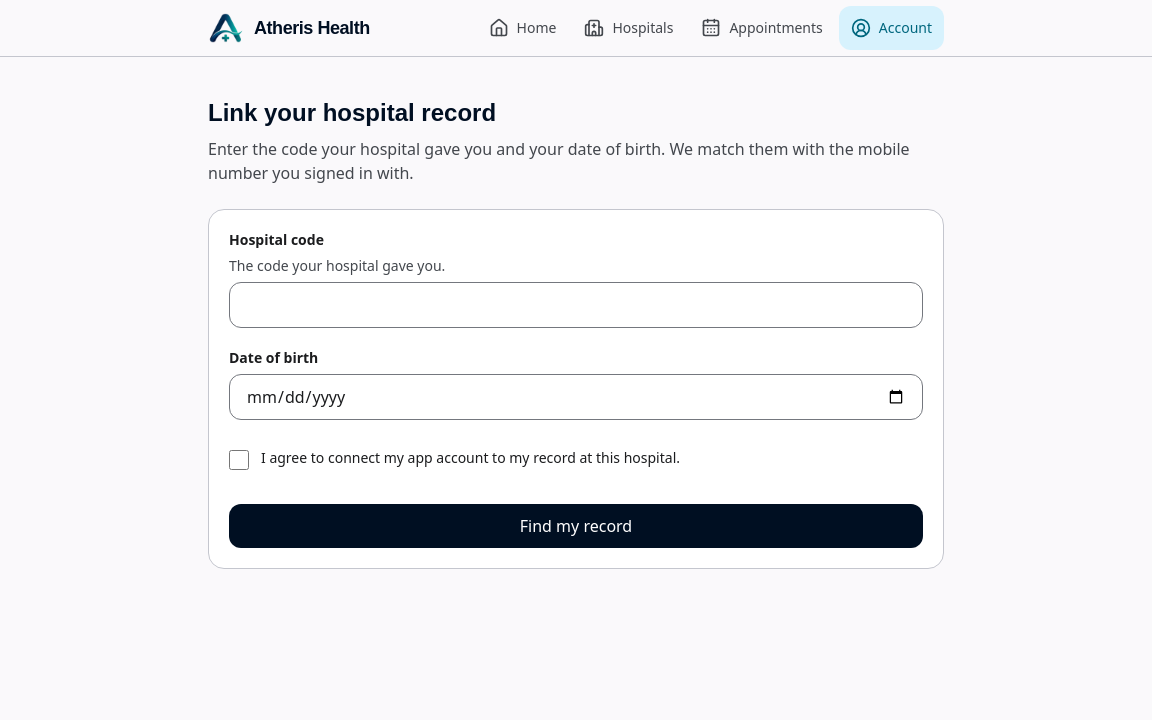
link a hospital record › refuses a date of birth in the future
Type "city-care" into the field labelled "Hospital code" at (576, 305), box [229,282,923,328]
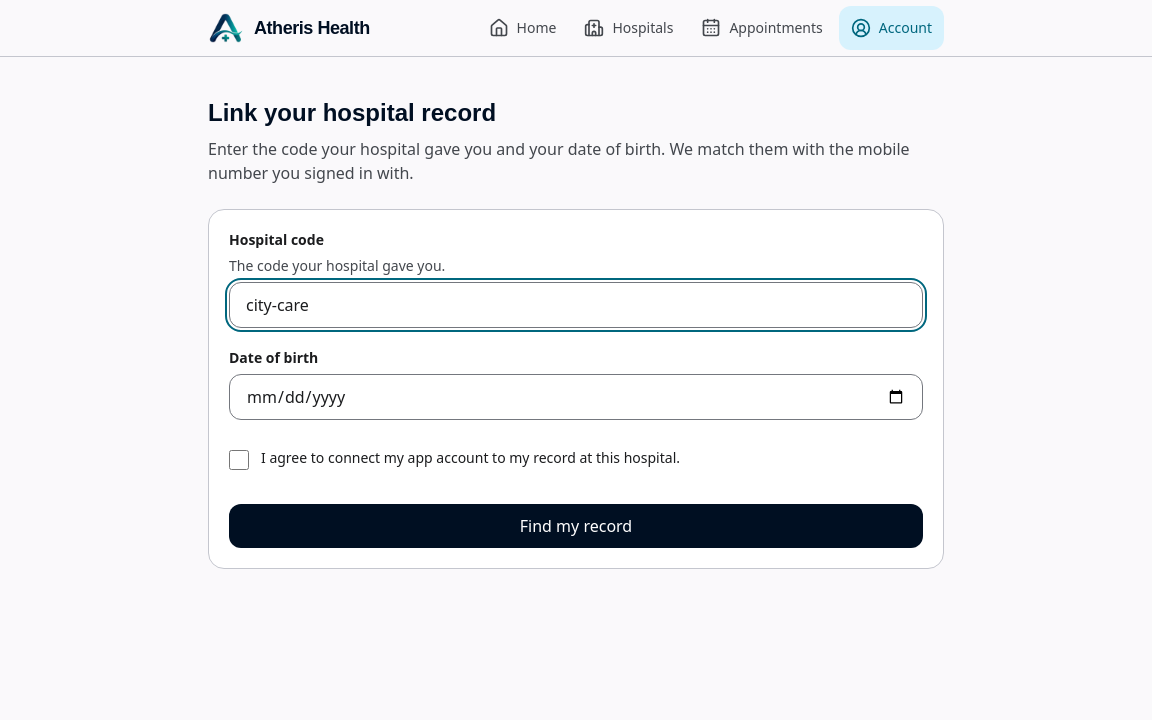
Type "2999-01-01" into the date field labelled "Date of birth" at (576, 397), box [229,374,923,420]
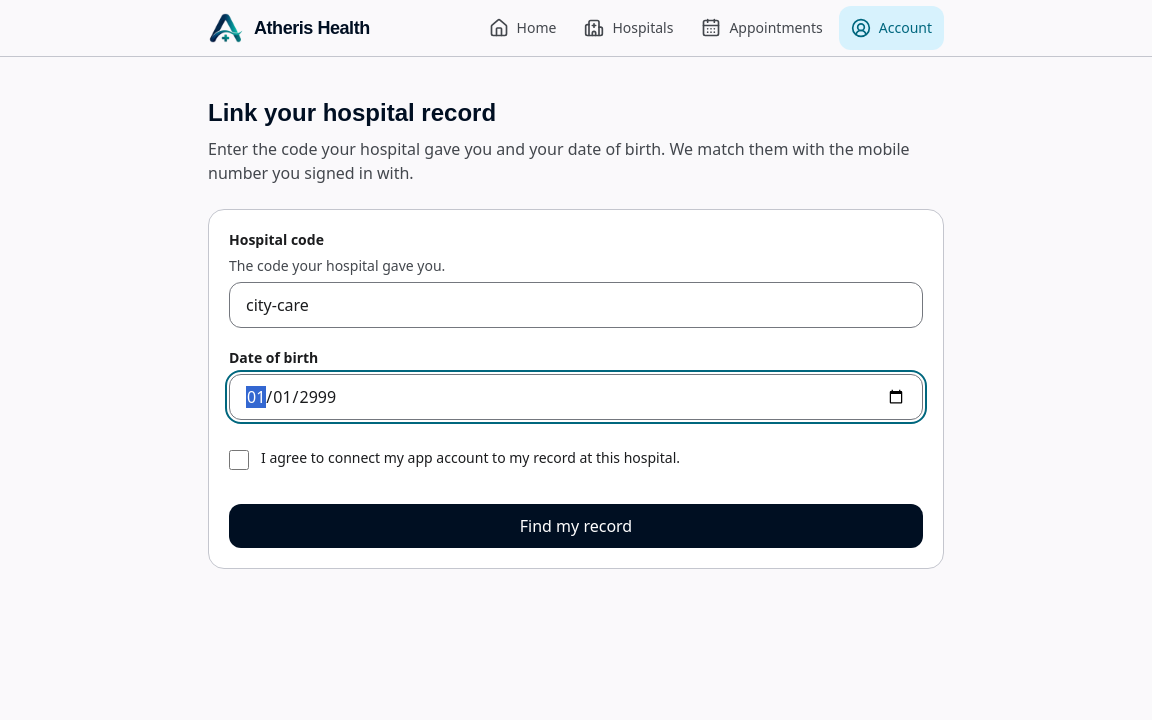
Click the checkbox at (239, 460), box [229,450,249,470]
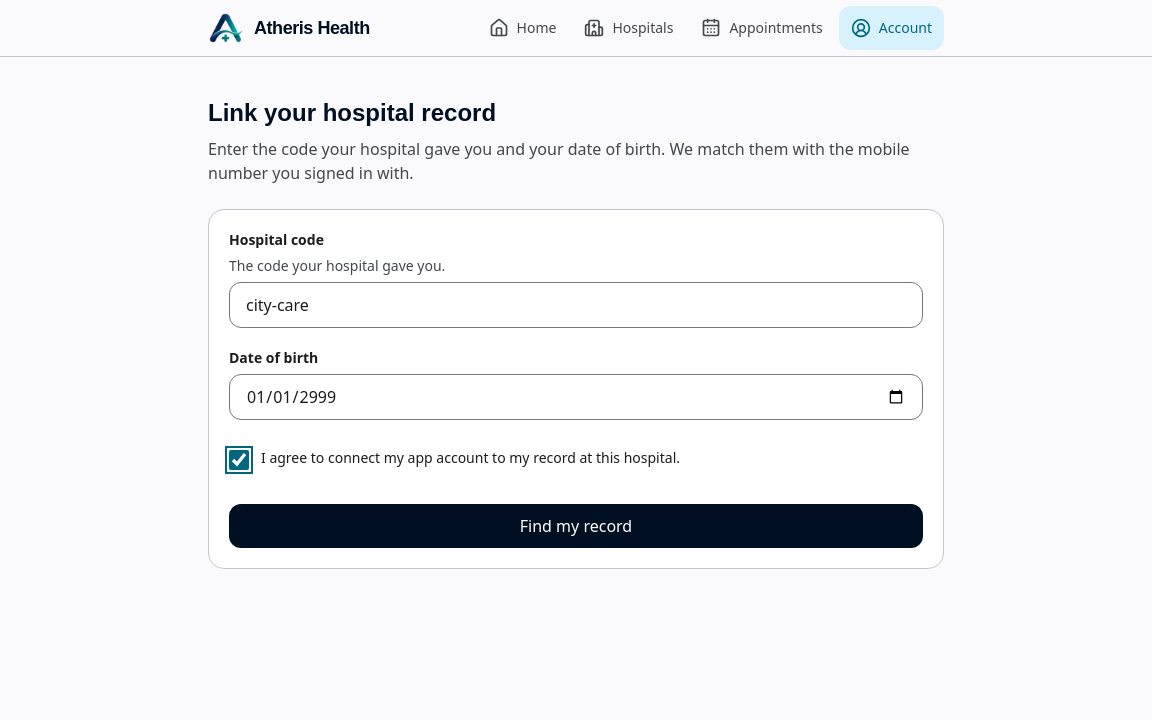
Click the button "Find my record" at (576, 526), box [229,504,923,548]
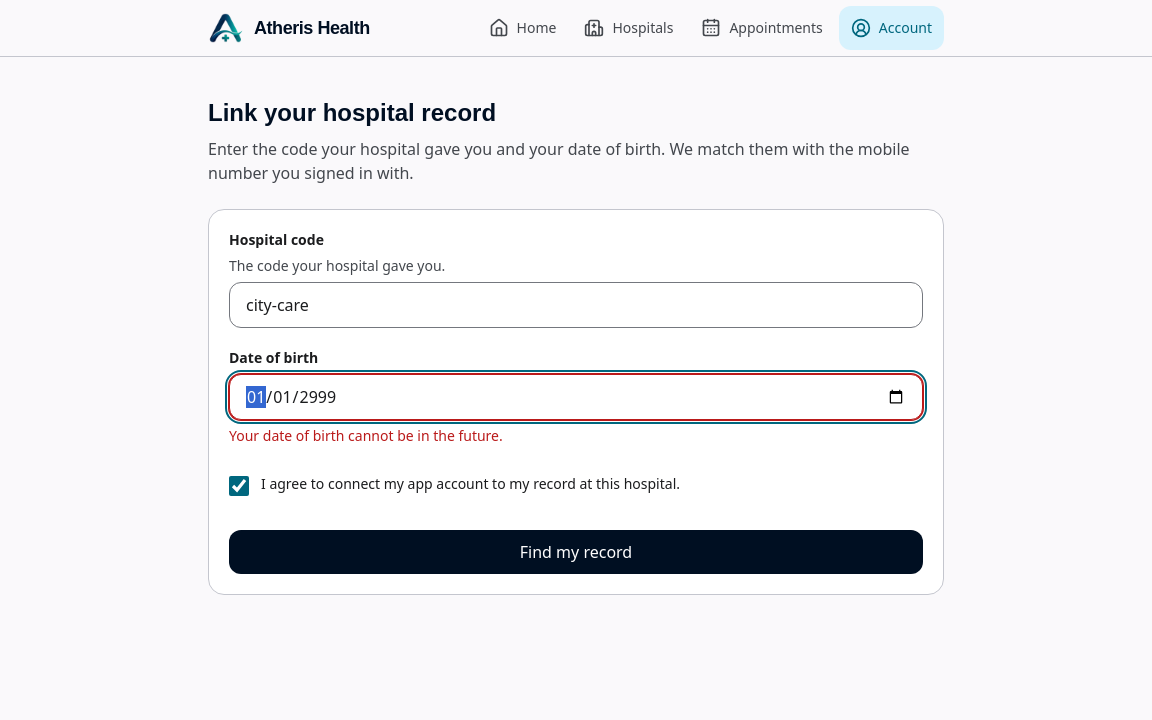
Result: the text "Your date of birth cannot be in the future." is shown at [229,426,503,445]
